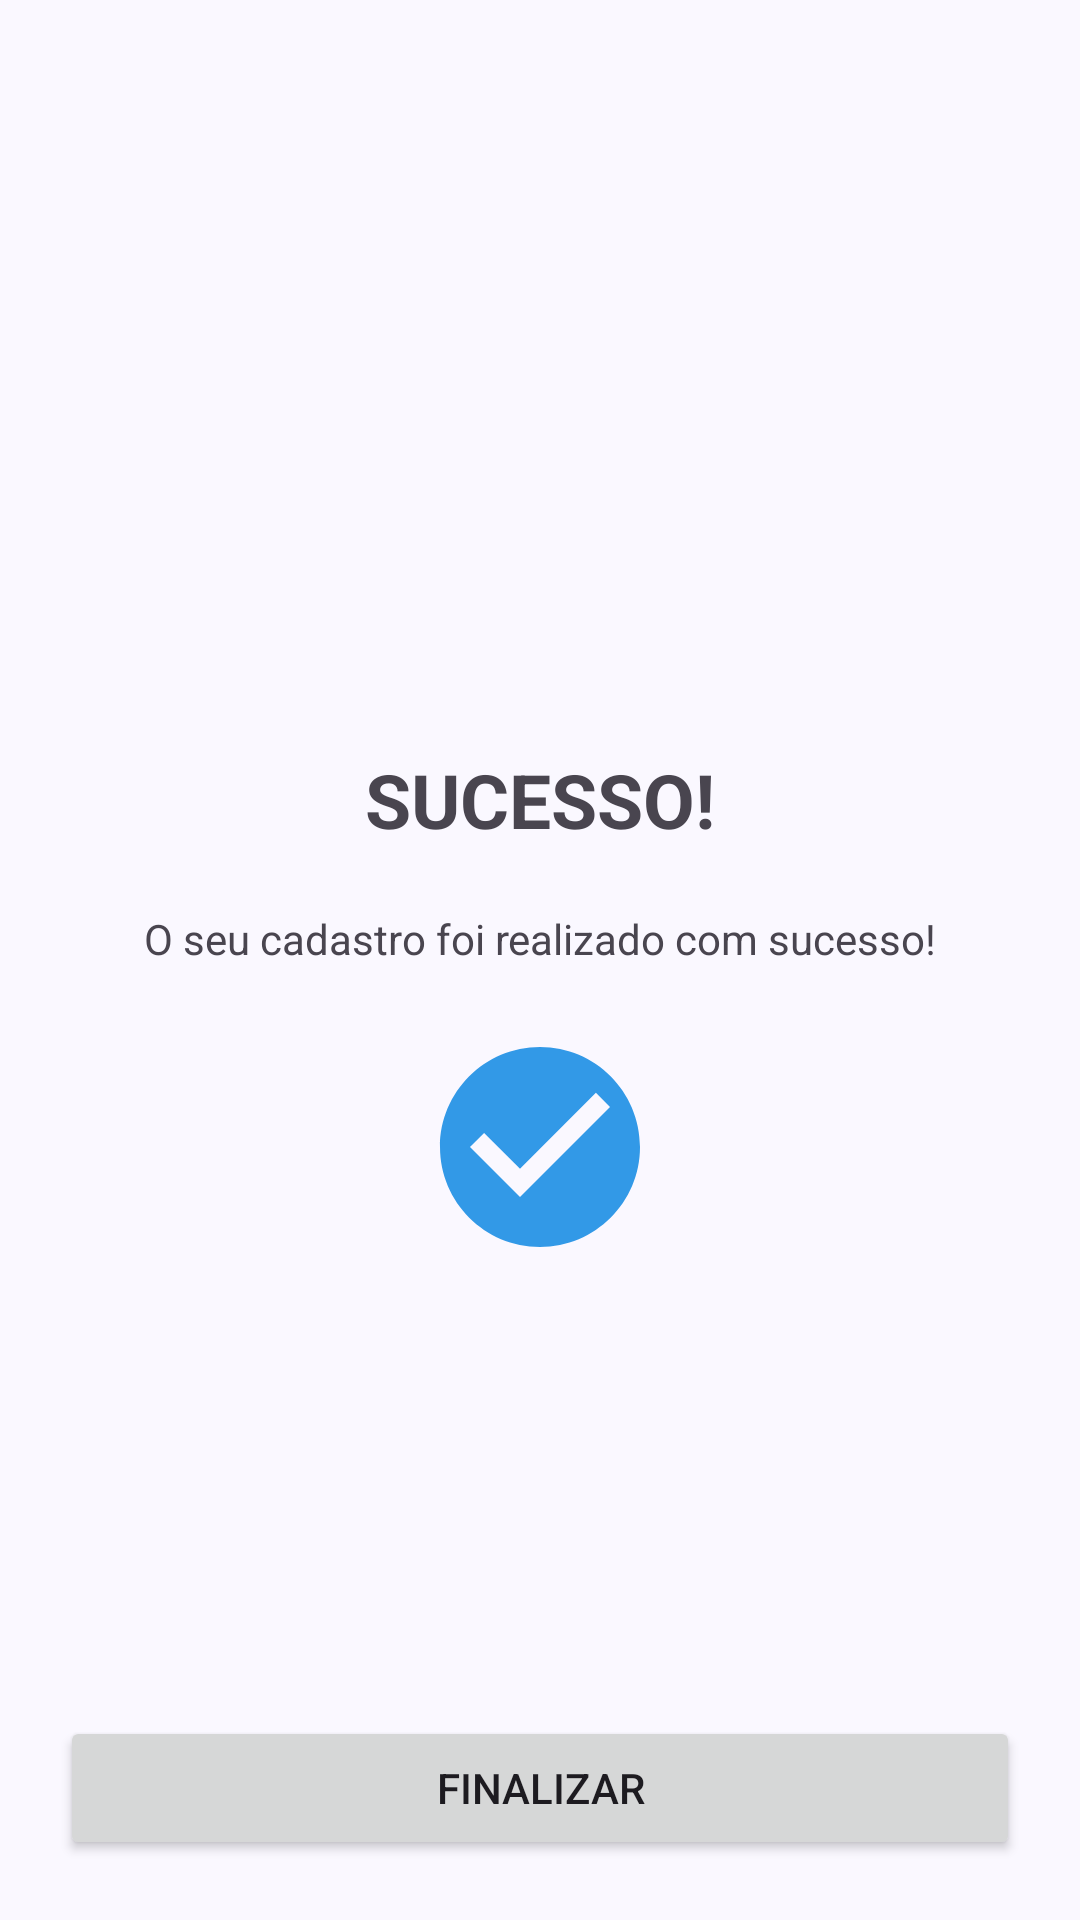

Named icons in this screenshot (1080×1920) and their bounding boxes, (x1, y1, x2, y2):
check: (440, 1047, 640, 1247)
